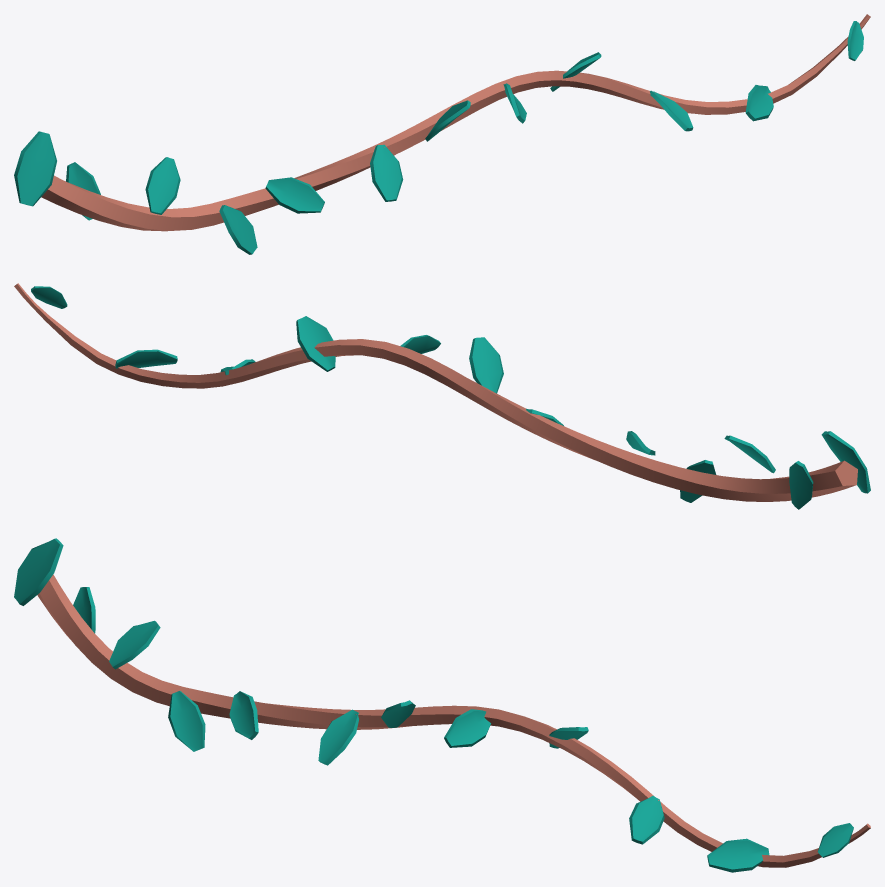
The model's file is SM_Vine2.fbx.
The picture shows the model from 3 angles, top to bottom: view 1: azimuth 30°, elevation 25°; view 2: azimuth 150°, elevation 25°; view 3: azimuth 330°, elevation 25°; orthographic projection. The views are drawn at different scales.
Parts seen in each view (by area): view 1: Vine2; view 2: Vine2; view 3: Vine2.
Part boxes in pixels (x1=…): Vine2: x1=14, y1=14, x2=870, y2=254; Vine2: x1=14, y1=283, x2=870, y2=509; Vine2: x1=14, y1=538, x2=870, y2=872.
Bounding box in the file's own units: 110 × 17.24 × 11.98.
